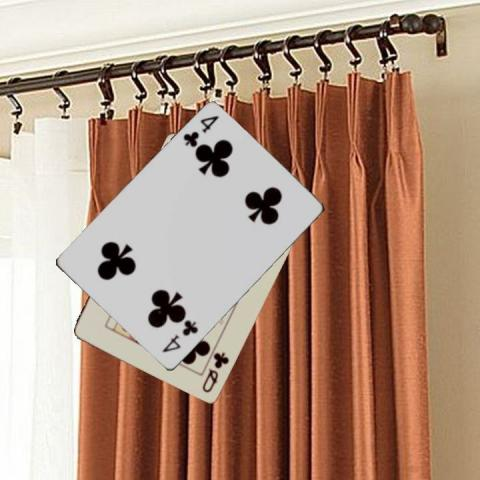4c: (159, 317, 200, 355), (180, 113, 220, 149)
Qc: (198, 349, 230, 394)
